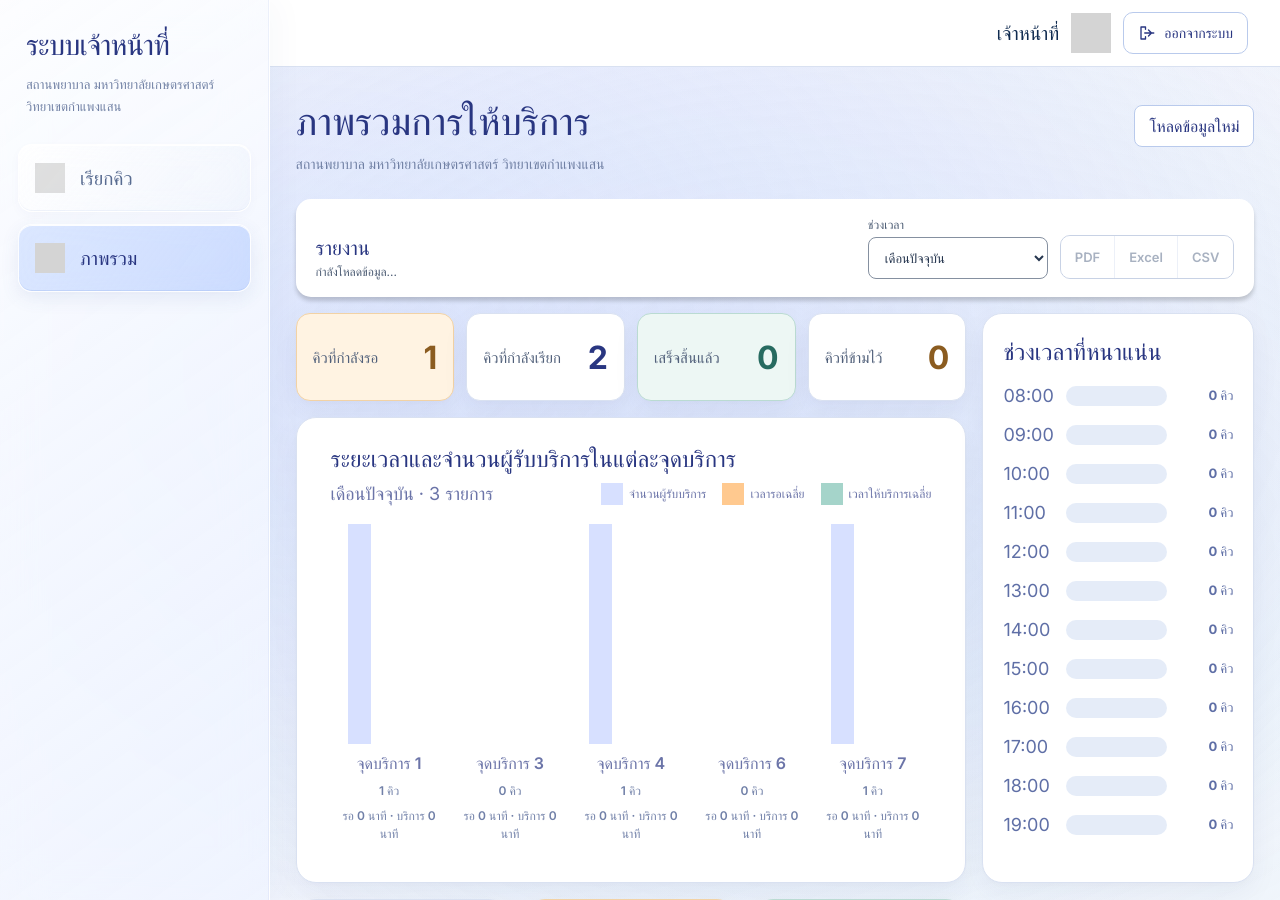
Test: application routes › combines annual ranges into a selectable year and updates the overview label
Select "รายปี" in the dropdown labelled "ช่วงเวลา" at {"x": 958, "y": 258}, box [868,237,1048,279]
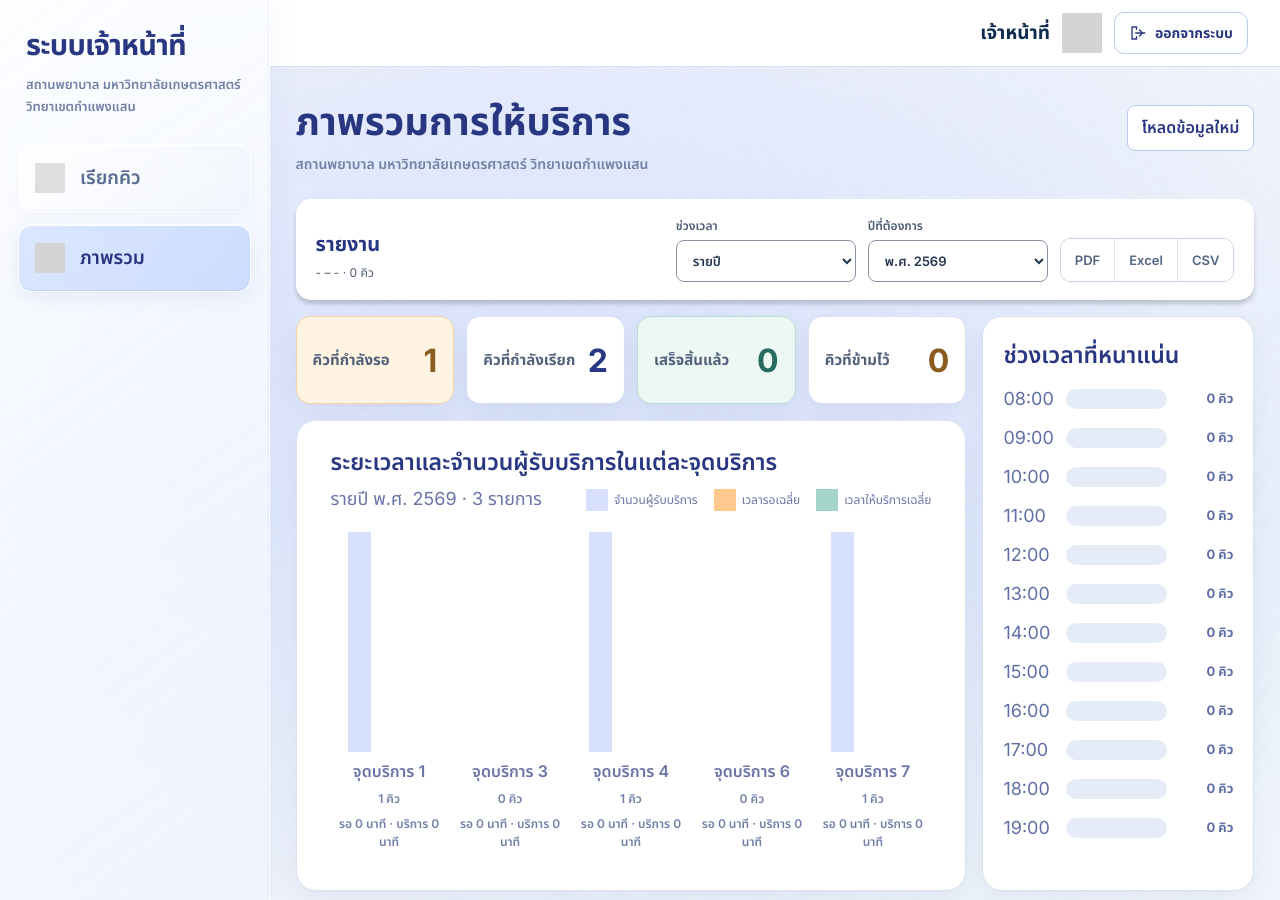
Expected: the text "รายปี พ.ศ." is shown, [331,488,457,509]
